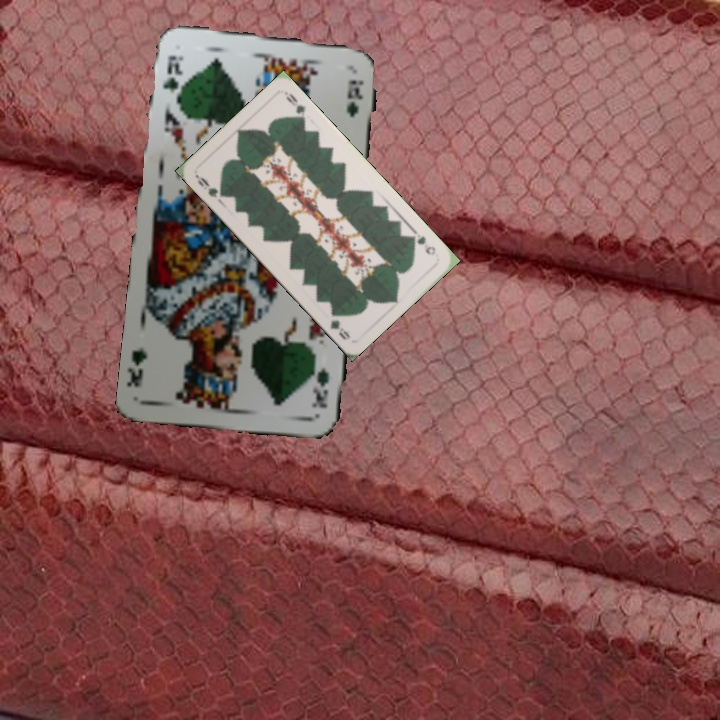G9: (192, 171, 228, 200), (406, 231, 438, 258)
GK: (159, 51, 185, 96), (309, 364, 332, 411)
